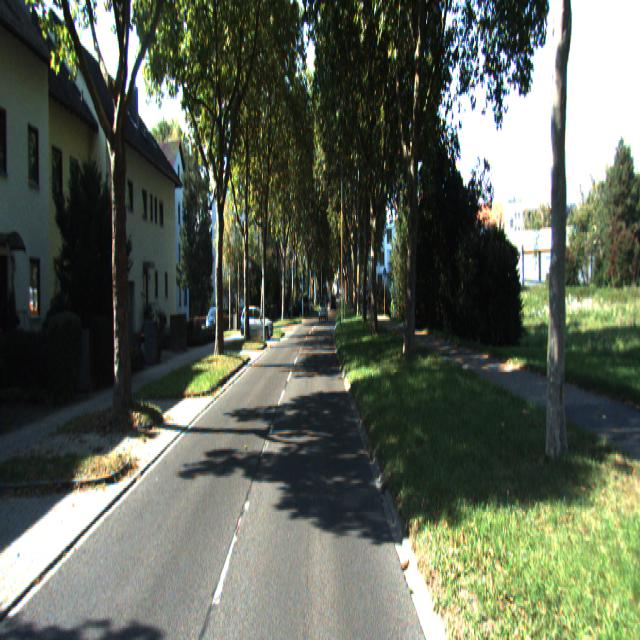Car: (239, 314, 274, 348)
